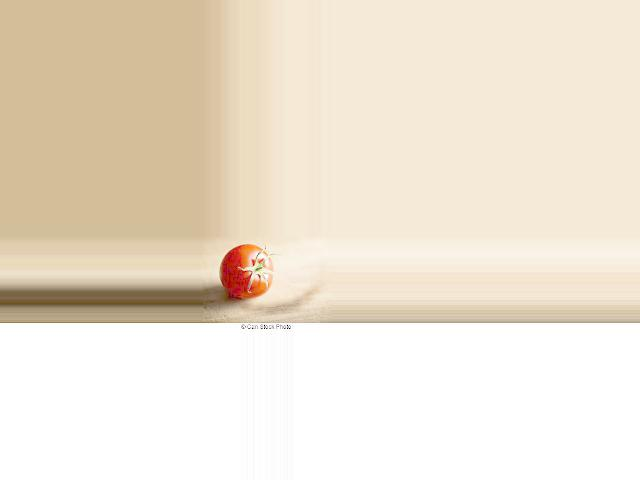tomato: (220, 245, 274, 298)
